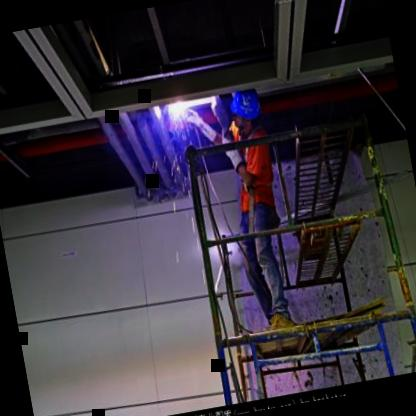helmet: (224, 89, 266, 130)
